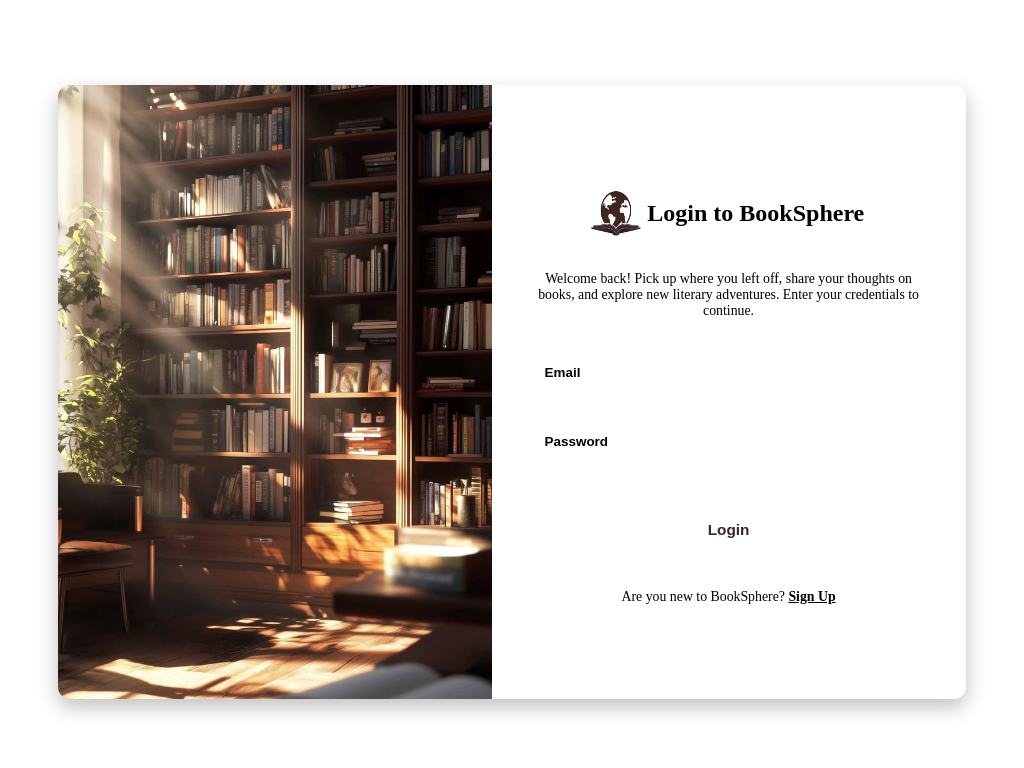
Test case: Login Component › should show error message on failed login
Step 1. Type "fail@example.com" into the field with placeholder "Email" → (745, 372), box [529,357,961,387]
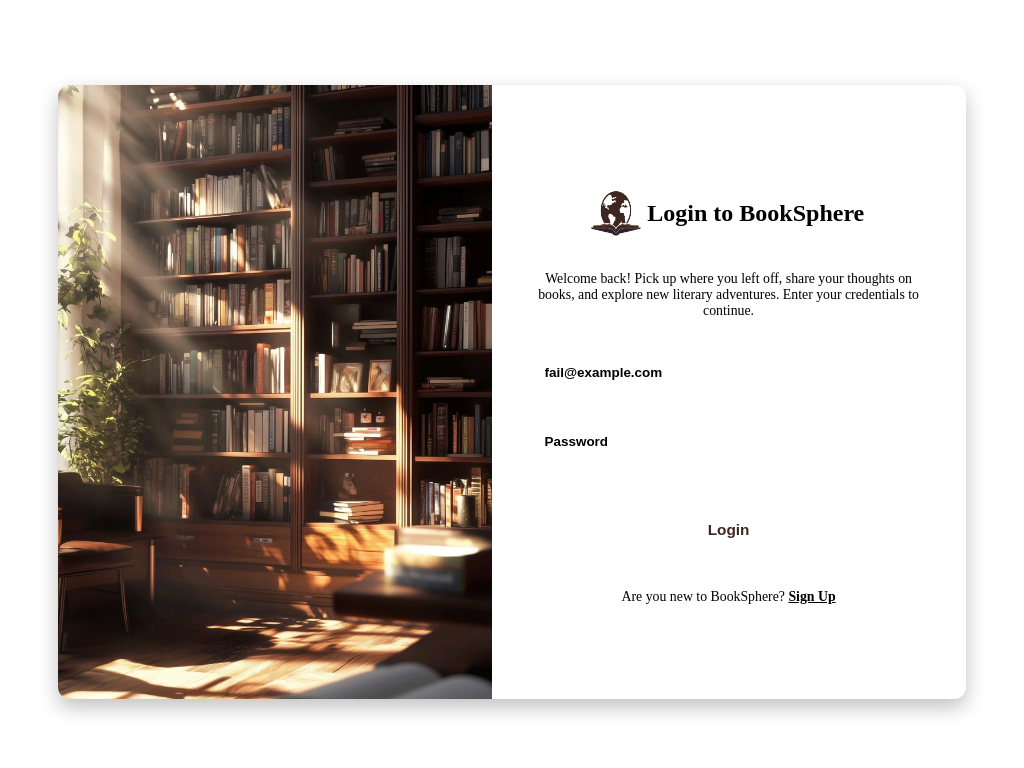
Step 2. Type "wrongpass" into the password field with placeholder "Password" → (745, 441), box [529,426,961,456]
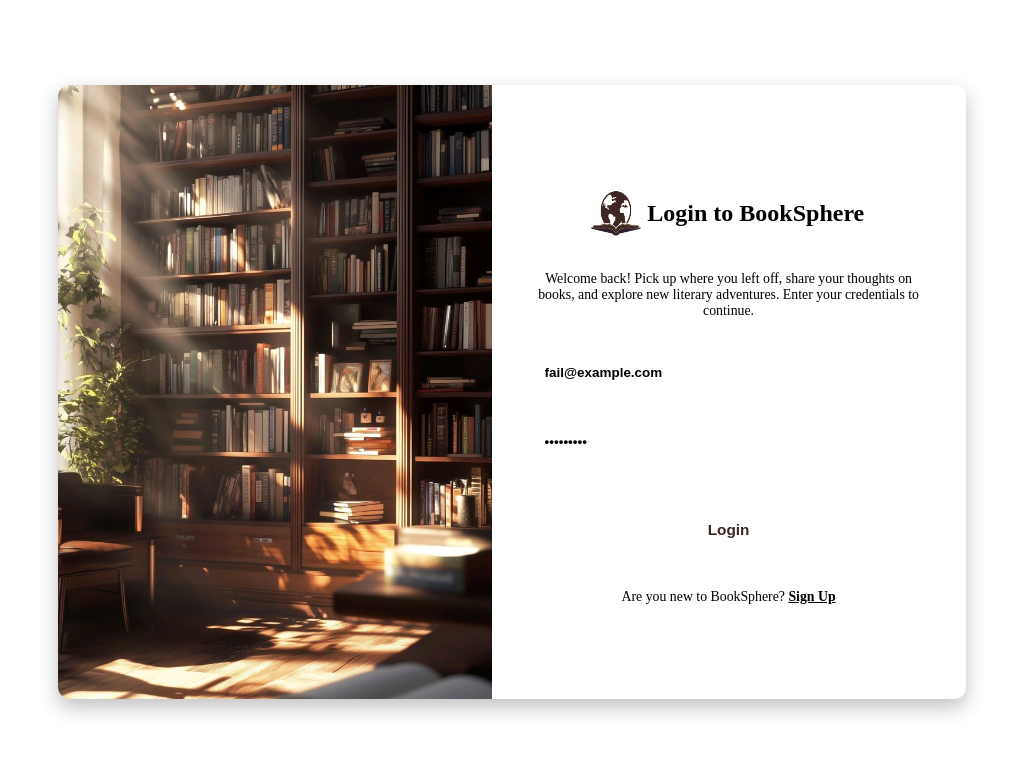
Step 3. Click the button "Login" → (729, 530), box [604,510,854,551]
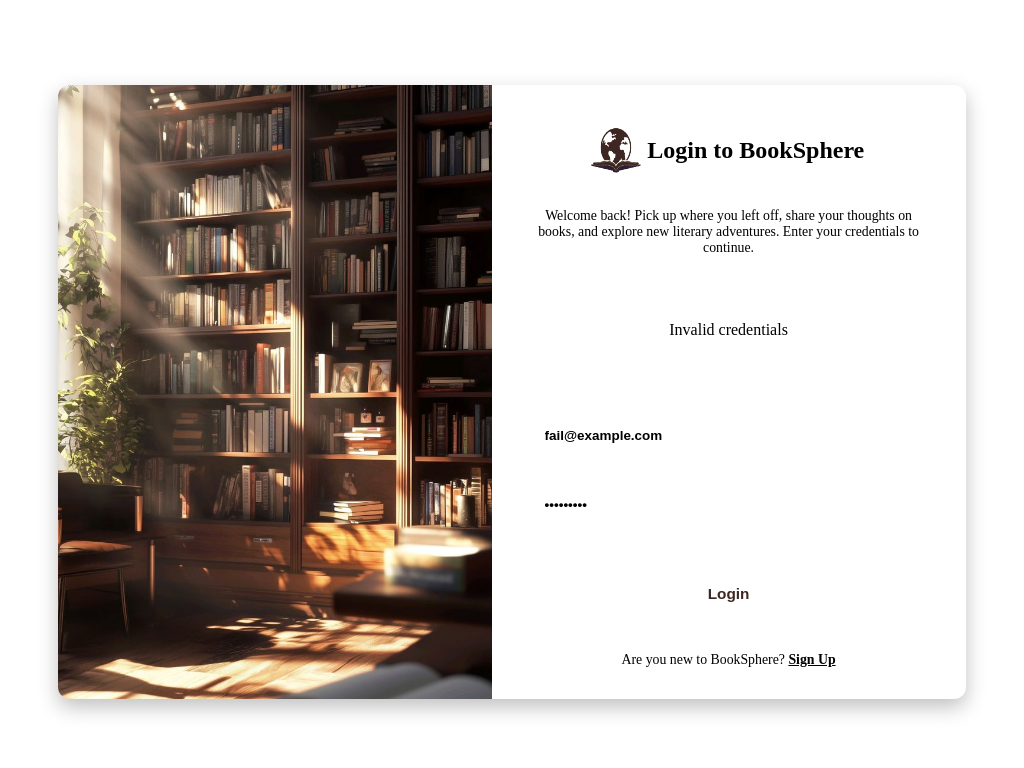
Expected: the text "Invalid credentials" is shown, [669,321,788,338]
